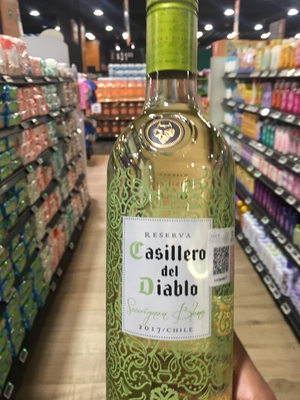casillero del diablo sauvignon blanc: (108, 2, 241, 400)
